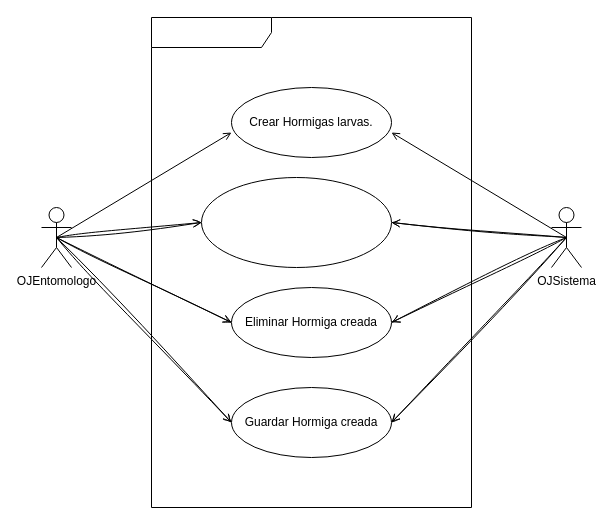
Image size: 613x525. Some labels were removed from this diagram. The shapes that lost their labels are listed below. From the top down, each one's box as (x1, y1, x2, y2) in pixels, then its label:
(200, 176, 392, 268): Alimentar con geno alimento e ingesta nativa para que evolucionen
(150, 16, 472, 508): OJEcuaAnt2K24A
